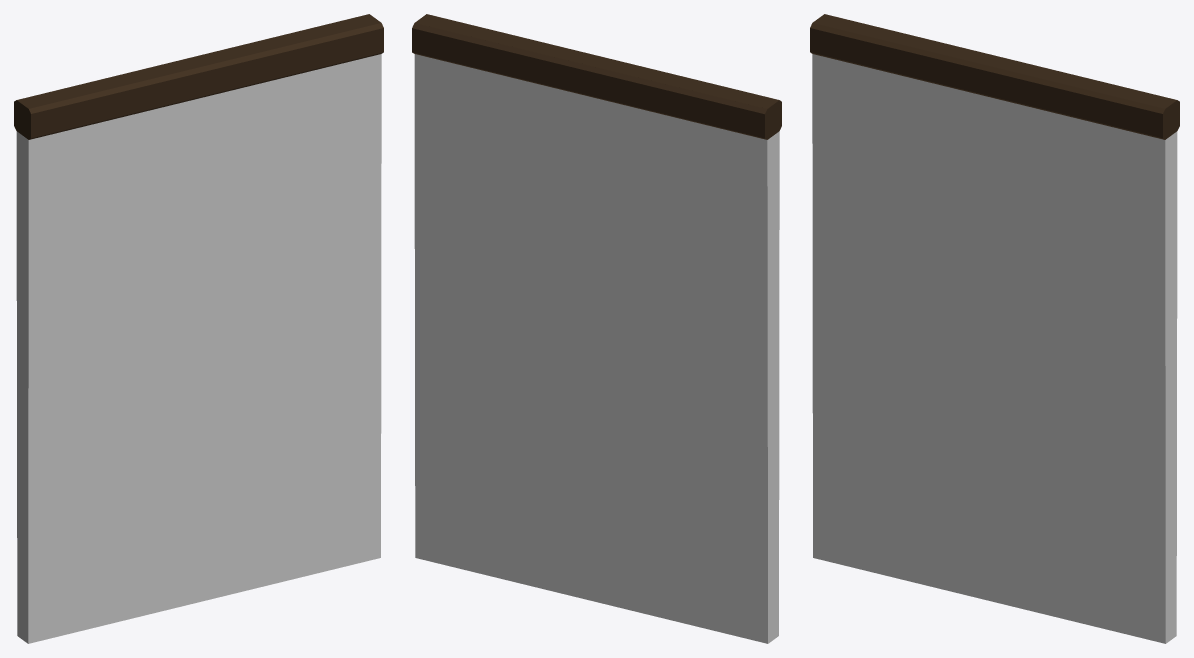
The model's file is wall_55.fbx.
3 views of the same model, side by side, from view 1: azimuth 30°, elevation 25°; view 2: azimuth 150°, elevation 25°; view 3: azimuth 330°, elevation 25° (orthographic).
Visible parts, largest first — view 1: WALL_8.001; view 2: WALL_8.001; view 3: WALL_8.001.
Part boxes in pixels (left/top/right/bottom): WALL_8.001: left=14, top=14, right=383, bottom=643; WALL_8.001: left=412, top=14, right=781, bottom=643; WALL_8.001: left=810, top=14, right=1179, bottom=643.
Bounding box in the file's own units: 3.33 × 4.83 × 0.2785.
